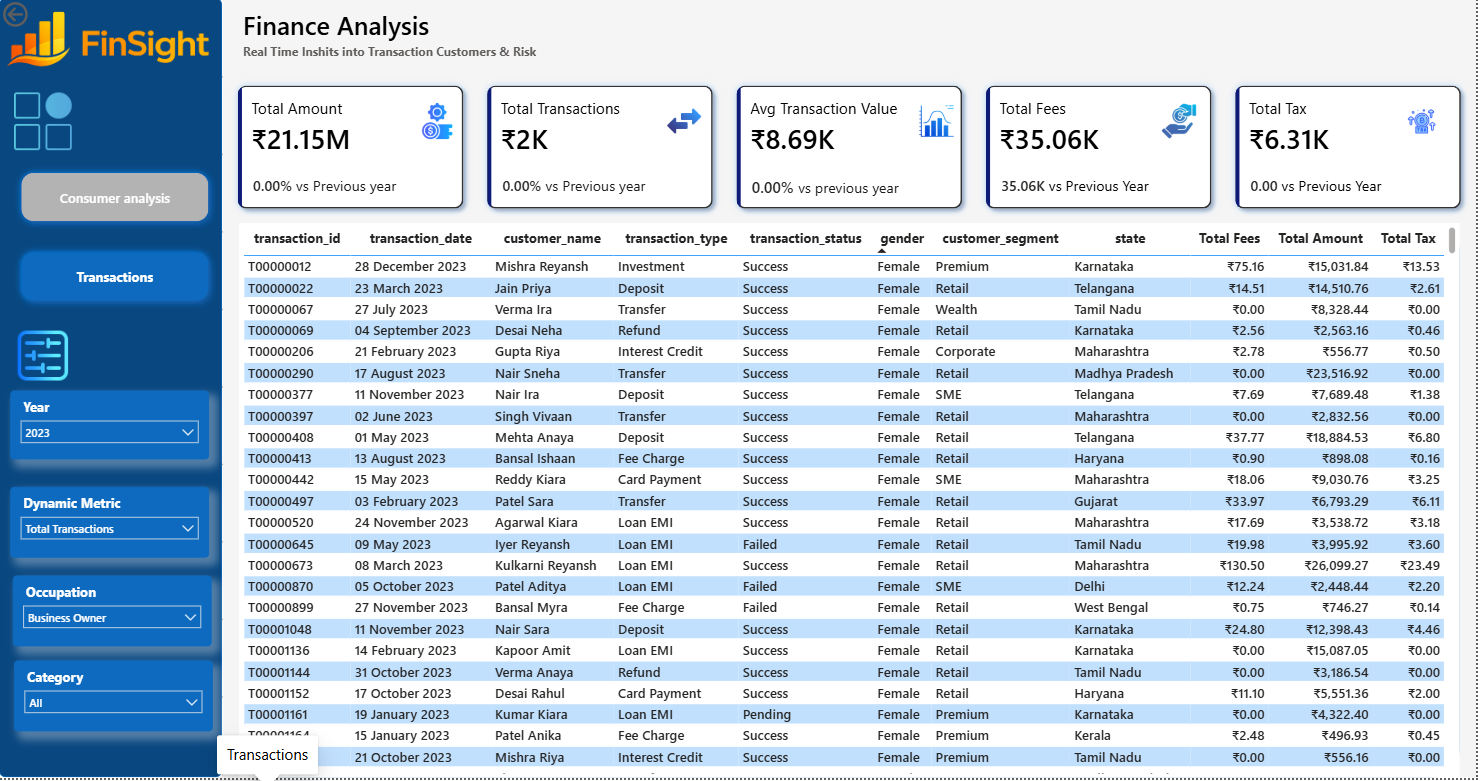

The page's visual inventory and layout, read from the dashboard file:
{"tool":"powerbi","page":{"name":"Transactions","canvas":[1800,950],"ordinal":1},"visuals":[{"type":"shape","box":[272,0,1528,950],"z":0},{"type":"shape","box":[0,0,272,950],"z":1000},{"type":"image","box":[0,0,272,102],"z":2000},{"type":"cardVisual","fields":{"Data":["finance_transactions.Dashboard Title"]},"box":[292,0,404,88],"z":3000},{"type":"cardVisual","fields":{"Data":["finance_transactions.Total Amount","finance_transactions.Total Transactions","finance_transactions.Avg Transaction Vaalue","finance_transactions.Total Fee","finance_transactions.Total Tax"]},"box":[272,88,1528,186],"z":4000},{"type":"image","box":[508,128,54,44],"z":5000},{"type":"image","box":[806,128,58,44],"z":6000},{"type":"image","box":[1120,128,46,44],"z":7000},{"type":"image","box":[1416,128,46,44],"z":8000},{"type":"image","box":[1714,128,40,44],"z":9000},{"type":"shape","box":[292,274,1488,676],"z":10000},{"type":"tableEx","fields":{"Values":["finance_transactions.transaction_id","finance_transactions.transaction_date","customers.customer_name","finance_transactions.transaction_type","finance_transactions.transaction_status","customers.gender","customers.customer_segment","customers.state","finance_transactions.Total Fees","finance_transactions.Total Amount","finance_transactions.Total Tax"]},"box":[292,274,1488,676],"z":11000},{"type":"actionButton","box":[0,0,100,40],"z":12000},{"type":"slicer","fields":{"Values":["Calendar Table.Year"]},"box":[14,478,242,84],"z":13000},{"type":"slicer","fields":{"Values":["customers.occupation"]},"box":[16,704,242,86],"z":14000},{"type":"slicer","fields":{"Values":["Dynamic Metric.Dynamic Metric"]},"box":[14,596,242,86],"z":15000},{"type":"slicer","fields":{"Values":["finance_transactions.merchant_category"]},"box":[18,808,242,86],"z":16000},{"type":"pageNavigator","box":[18,204,246,174],"z":17000},{"type":"image","box":[18,394,70,82],"z":18000},{"type":"image","box":[18,114,70,72],"z":19000}]}

Visuals, with their boxes on the page's 1800x950 design canvas (x1, y1, x2, y2). These are canvas units, not pixel positions in the 1481x781 screenshot, which may show the page scaled, cropped or inside an application window:
shape: (left=272, top=0, right=1800, bottom=950)
shape: (left=0, top=0, right=272, bottom=950)
image: (left=0, top=0, right=272, bottom=102)
cardVisual - finance_transactions.Dashboard Title: (left=292, top=0, right=696, bottom=88)
cardVisual - finance_transactions.Total Amount x finance_transactions.Total Transactions: (left=272, top=88, right=1800, bottom=274)
image: (left=508, top=128, right=562, bottom=172)
image: (left=806, top=128, right=864, bottom=172)
image: (left=1120, top=128, right=1166, bottom=172)
image: (left=1416, top=128, right=1462, bottom=172)
image: (left=1714, top=128, right=1754, bottom=172)
shape: (left=292, top=274, right=1780, bottom=950)
tableEx - finance_transactions.transaction_id x finance_transactions.transaction_date: (left=292, top=274, right=1780, bottom=950)
actionButton: (left=0, top=0, right=100, bottom=40)
slicer - Calendar Table.Year: (left=14, top=478, right=256, bottom=562)
slicer - customers.occupation: (left=16, top=704, right=258, bottom=790)
slicer - Dynamic Metric.Dynamic Metric: (left=14, top=596, right=256, bottom=682)
slicer - finance_transactions.merchant_category: (left=18, top=808, right=260, bottom=894)
pageNavigator: (left=18, top=204, right=264, bottom=378)
image: (left=18, top=394, right=88, bottom=476)
image: (left=18, top=114, right=88, bottom=186)
